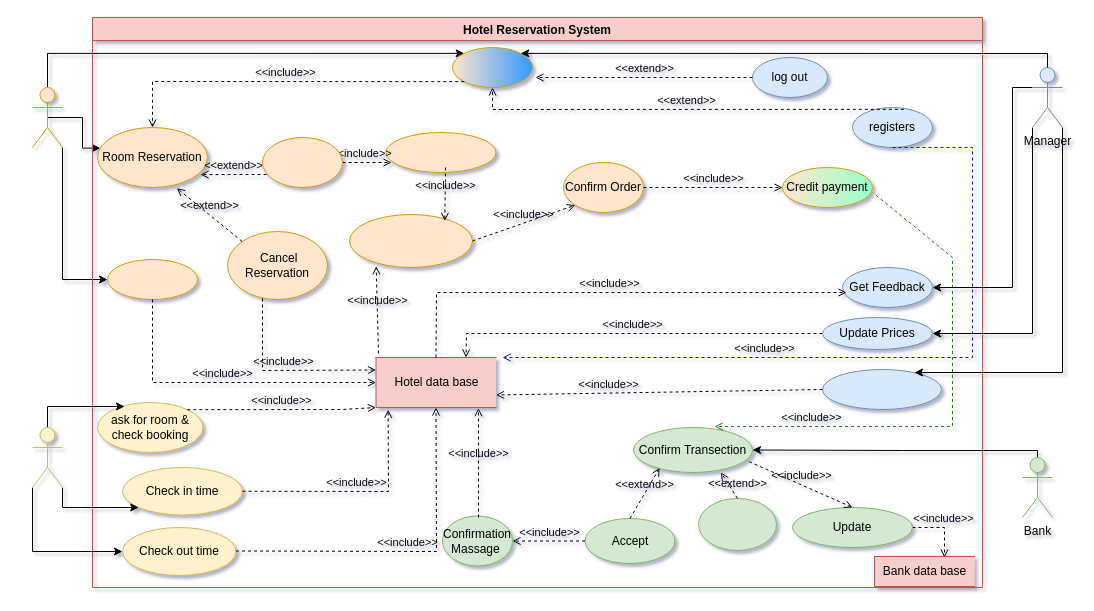
Some shapes in this 1094 by 611 pixel diagram are drawn without their labels. Each missing label, with the box of its shape:
Check Room Availbility: (385, 132, 496, 172)
guest: (32, 86, 62, 148)
Login: (452, 46, 532, 88)
Manage hotel data: (822, 368, 942, 410)
receptionist: (32, 426, 62, 488)
Reject: (698, 498, 776, 550)
Reserve Room: (262, 136, 342, 188)
Send FeedBack: (106, 258, 198, 300)
View Available Room & Price: (348, 214, 472, 268)
